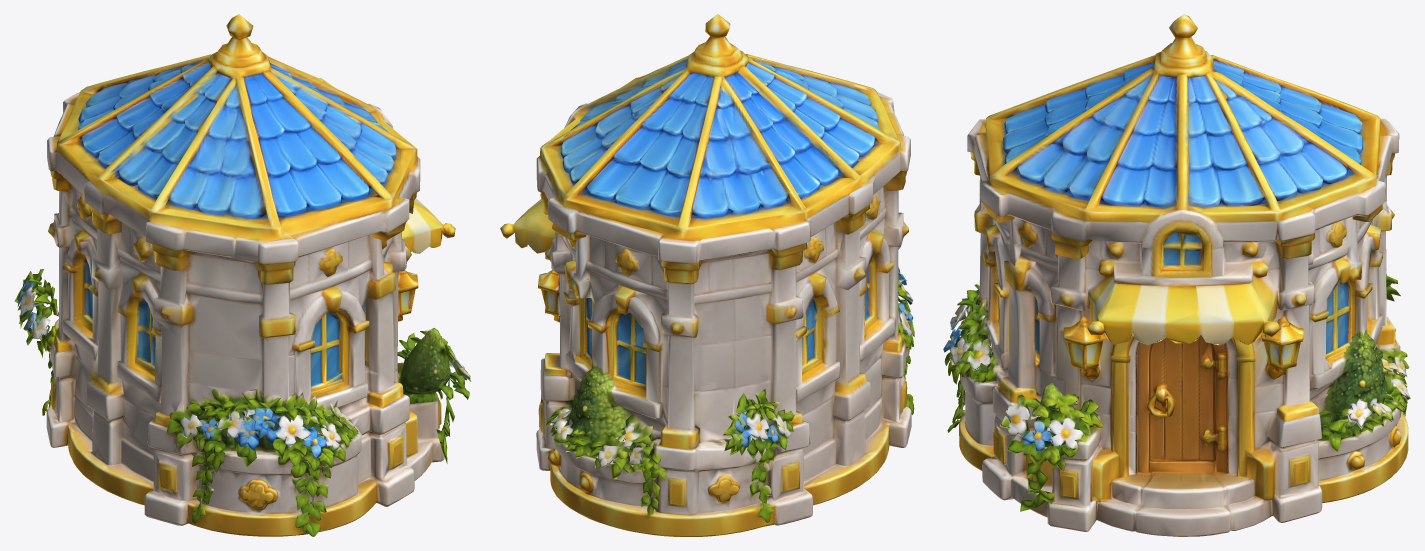
File: HaloDomeHouse_07_HD_src.glb
3 views of the same model, side by side, from view 1: azimuth 30°, elevation 25°; view 2: azimuth 150°, elevation 25°; view 3: azimuth 270°, elevation 25° (orthographic). The views are drawn at different scales.
Parts seen in each view (by area): view 1: tripo_node_8750bfd3-2385-4478-bbe4-356d83160d71; view 2: tripo_node_8750bfd3-2385-4478-bbe4-356d83160d71; view 3: tripo_node_8750bfd3-2385-4478-bbe4-356d83160d71.
Part boxes in pixels (box(x1,y1,x2,y2)): tripo_node_8750bfd3-2385-4478-bbe4-356d83160d71: box(14, 14, 471, 536); tripo_node_8750bfd3-2385-4478-bbe4-356d83160d71: box(500, 14, 914, 536); tripo_node_8750bfd3-2385-4478-bbe4-356d83160d71: box(943, 14, 1410, 536).
Bounding box in the file's own units: 0.762 × 0.9828 × 0.9371.
1 material, 1 textured.
